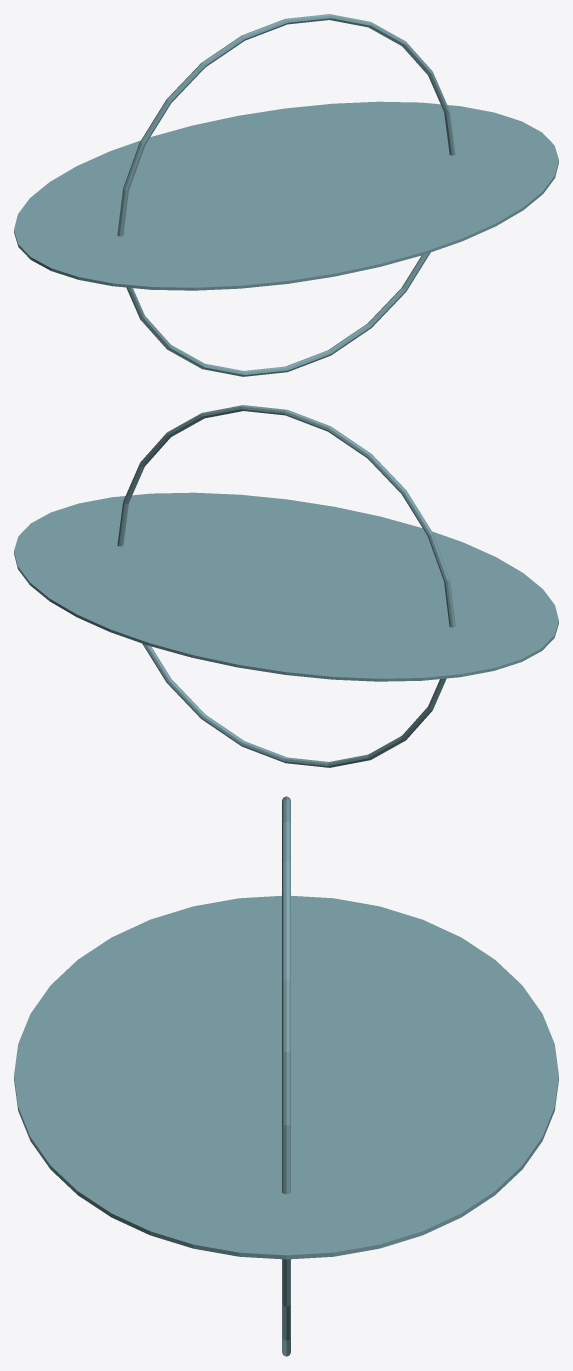
File: env_rain_puddle.glb
3 views of the same model, one above another, from view 1: azimuth 30°, elevation 25°; view 2: azimuth 150°, elevation 25°; view 3: azimuth 270°, elevation 25° (orthographic). The views are drawn at different scales.
Parts seen in each view (by area): view 1: env_rain_puddle/rain_water_puddle_00000, env_rain_puddle/puddle_ripple_ring_00001; view 2: env_rain_puddle/rain_water_puddle_00000, env_rain_puddle/puddle_ripple_ring_00001; view 3: env_rain_puddle/rain_water_puddle_00000, env_rain_puddle/puddle_ripple_ring_00001.
Part boxes in pixels (box(x1,y1,x2,y2)): env_rain_puddle/rain_water_puddle_00000: box(14, 101, 558, 290); env_rain_puddle/puddle_ripple_ring_00001: box(117, 14, 455, 376); env_rain_puddle/rain_water_puddle_00000: box(14, 492, 558, 681); env_rain_puddle/puddle_ripple_ring_00001: box(117, 405, 455, 767); env_rain_puddle/rain_water_puddle_00000: box(14, 895, 558, 1259); env_rain_puddle/puddle_ripple_ring_00001: box(282, 796, 290, 1356).
Bounding box in the file's own units: 1.5 × 0.991 × 0.96.
